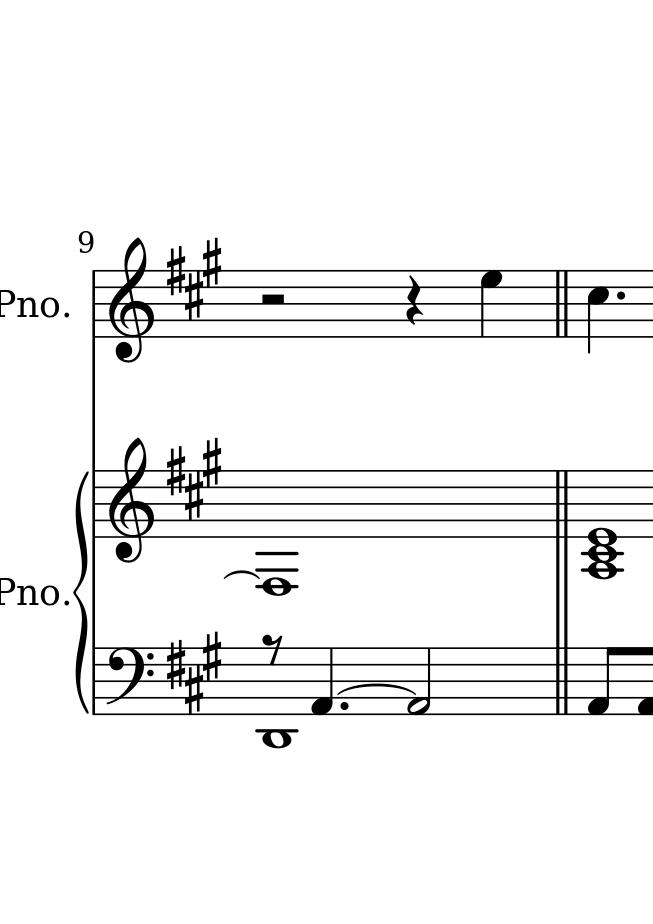1_-3: (257, 646, 298, 748)
1_-6: (258, 470, 296, 598)
1_th: (583, 469, 621, 582)
2_1: (405, 645, 432, 717)
4_1: (309, 646, 335, 717)
4_5: (585, 268, 611, 357)
4_7: (477, 269, 505, 339)
8_1: (584, 645, 618, 717)
9: (77, 229, 93, 254)
A_S: (165, 437, 225, 519), (165, 631, 220, 714), (165, 238, 221, 319)
Brace: (73, 469, 91, 713)
Double_barline: (548, 645, 574, 716), (550, 270, 575, 337), (550, 470, 573, 539)
Fclef: (104, 646, 155, 718)
Gclef: (106, 436, 157, 564), (106, 236, 156, 365)
Pno: (1, 288, 60, 324), (1, 575, 59, 611)
Rests2: (255, 289, 290, 310)
Rests4: (403, 274, 425, 329)
Rests8: (260, 632, 285, 666)
Single_barline: (87, 269, 101, 340), (89, 470, 101, 539), (89, 648, 101, 715)
Slur: (337, 682, 415, 696), (222, 569, 259, 580)
dot: (614, 289, 629, 304), (339, 701, 351, 713)
